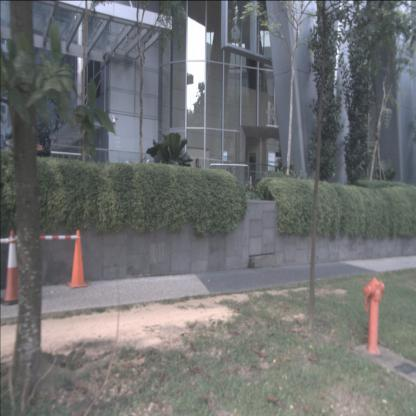cone: (0, 230, 24, 307), (67, 229, 88, 289)
